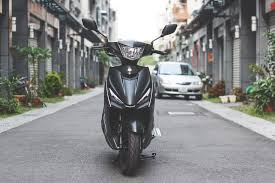motorcycle: (80, 17, 179, 174)
